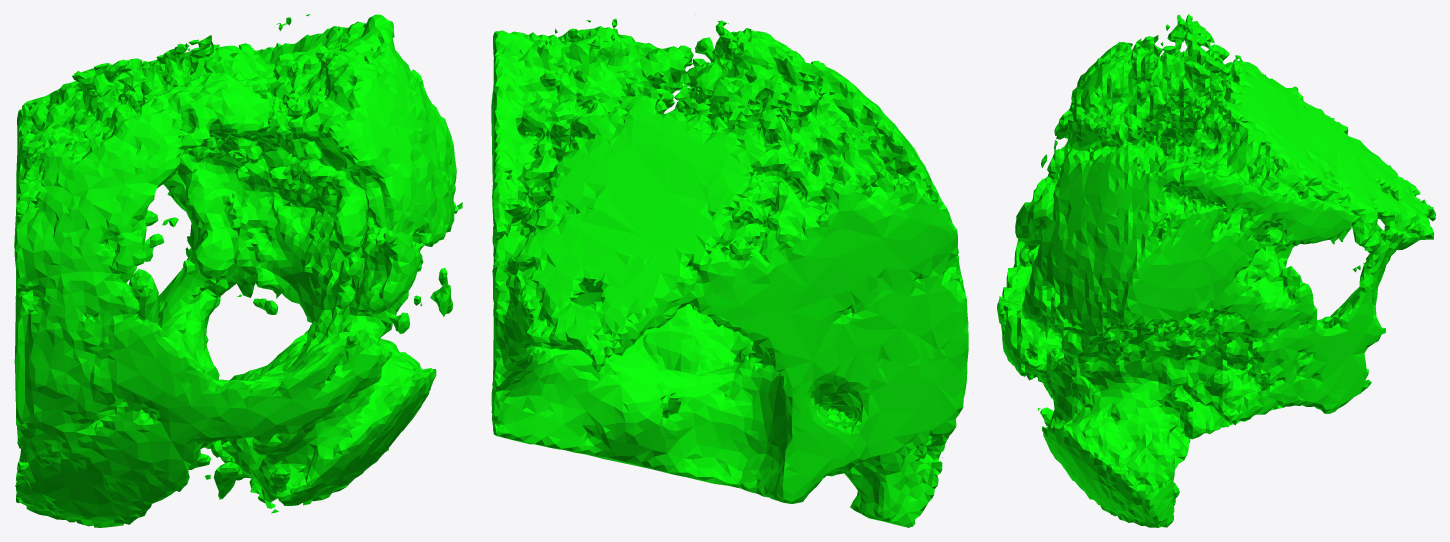
File: B939XXXX-1_base_6.obj
3 renders of one model, left to right at view 1: azimuth 30°, elevation 25°; view 2: azimuth 150°, elevation 25°; view 3: azimuth 270°, elevation 25°, orthographic. The views are drawn at different scales.
Parts seen in each view (by area): view 1: 6_base; view 2: 6_base; view 3: 6_base.
Boxes of the visible parts, x1,y1,x2,y2 form: 6_base: [14, 14, 462, 527]; 6_base: [491, 14, 968, 527]; 6_base: [997, 14, 1435, 527].
Bounding box in the file's own units: 219 × 216 × 204.
